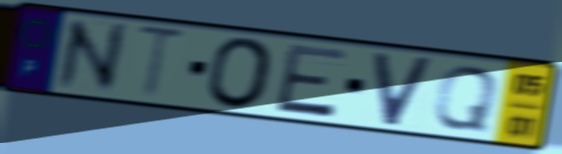E: (272, 41, 351, 121)
N: (54, 16, 129, 94)
O: (206, 35, 277, 111)
Q: (430, 63, 502, 134)
T: (133, 21, 191, 103)
V: (371, 51, 436, 130)
